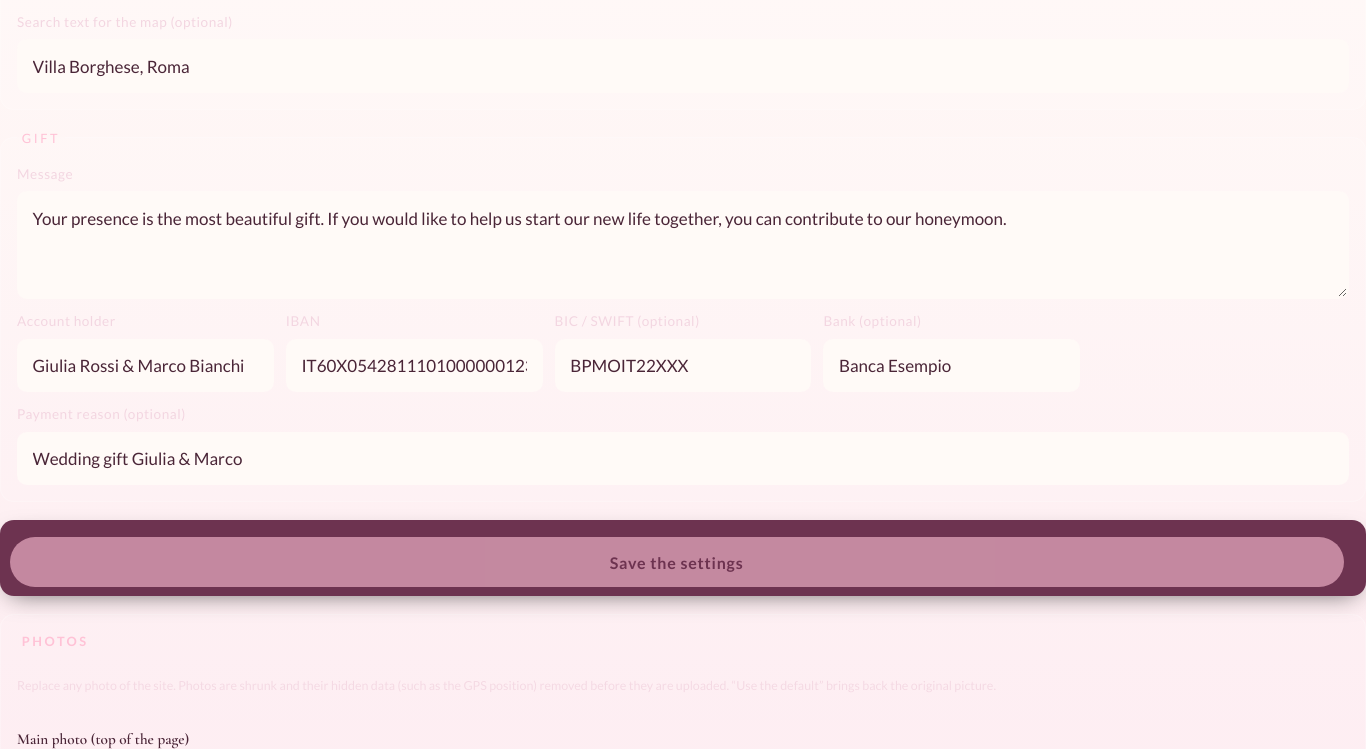
site settings (super admin) › shows the errors of the server next to their field
(page scrolled)
Replace the text in the field labelled "BIC / SWIFT (optional)" with "XX" at (683, 366), box [555, 339, 811, 392]
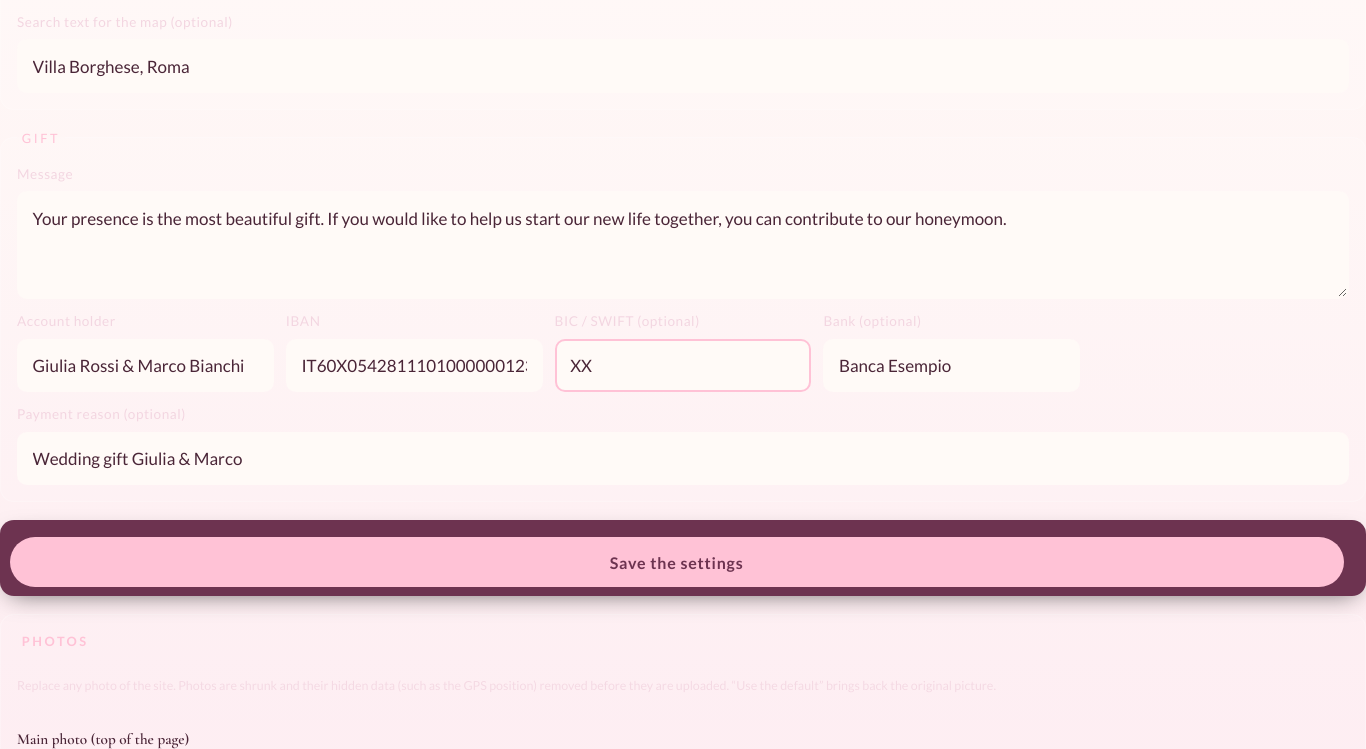
Click the button "Save the settings".
click(677, 562)  # box [10, 537, 1344, 587]
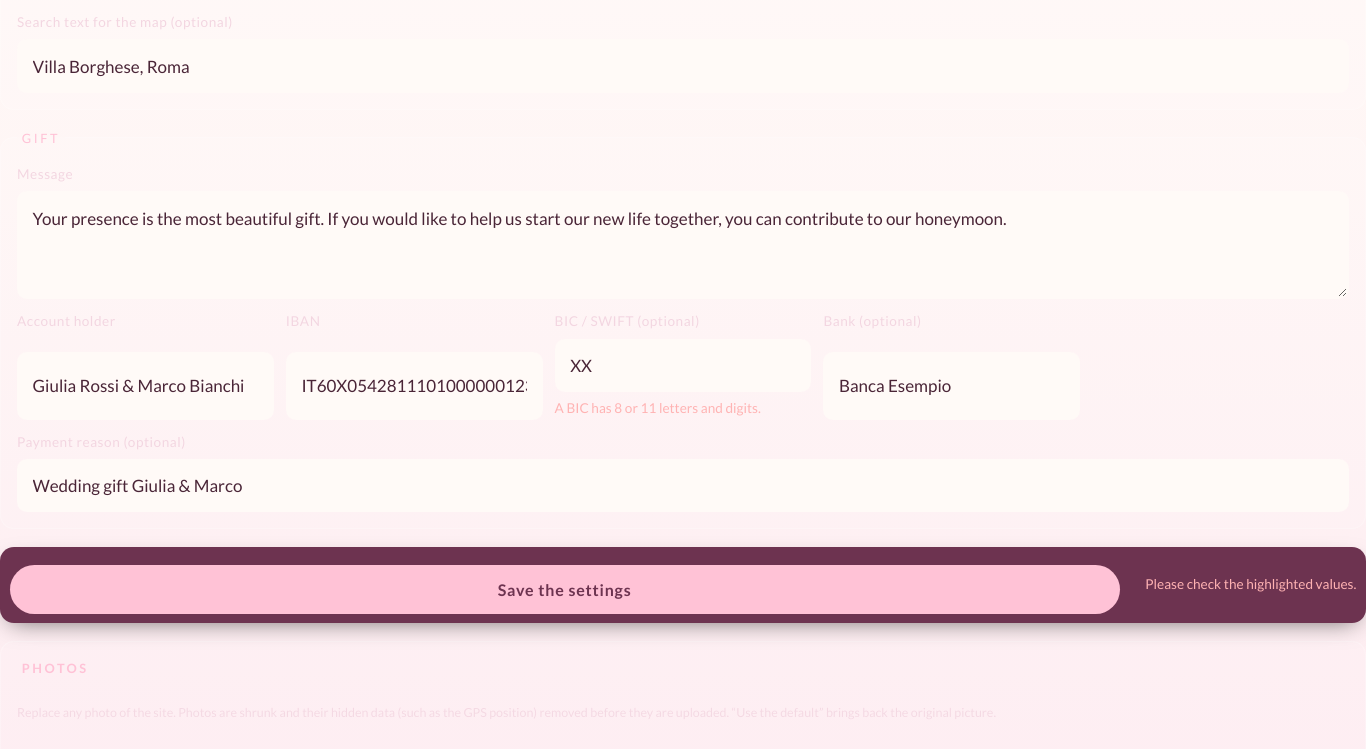
Result: the text "A BIC has 8 or 11 letters and digits." is shown at [555, 400, 761, 416]
